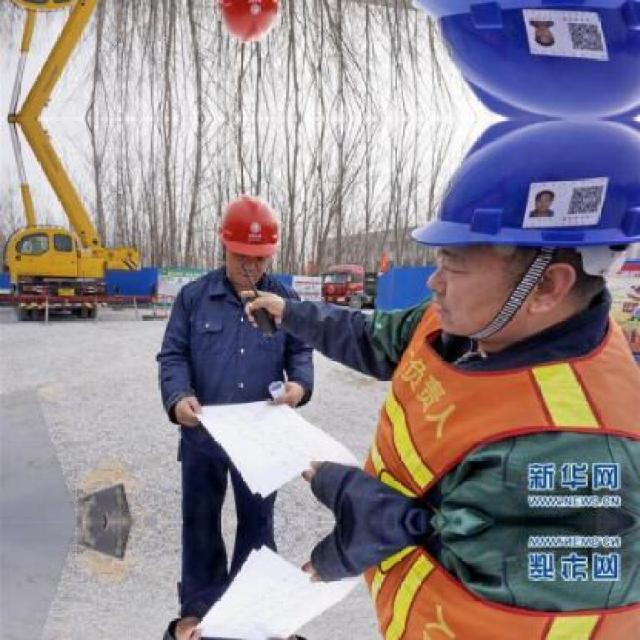helmet: (395, 126, 630, 352), (394, 0, 631, 109), (212, 185, 280, 286), (210, 0, 282, 51)
